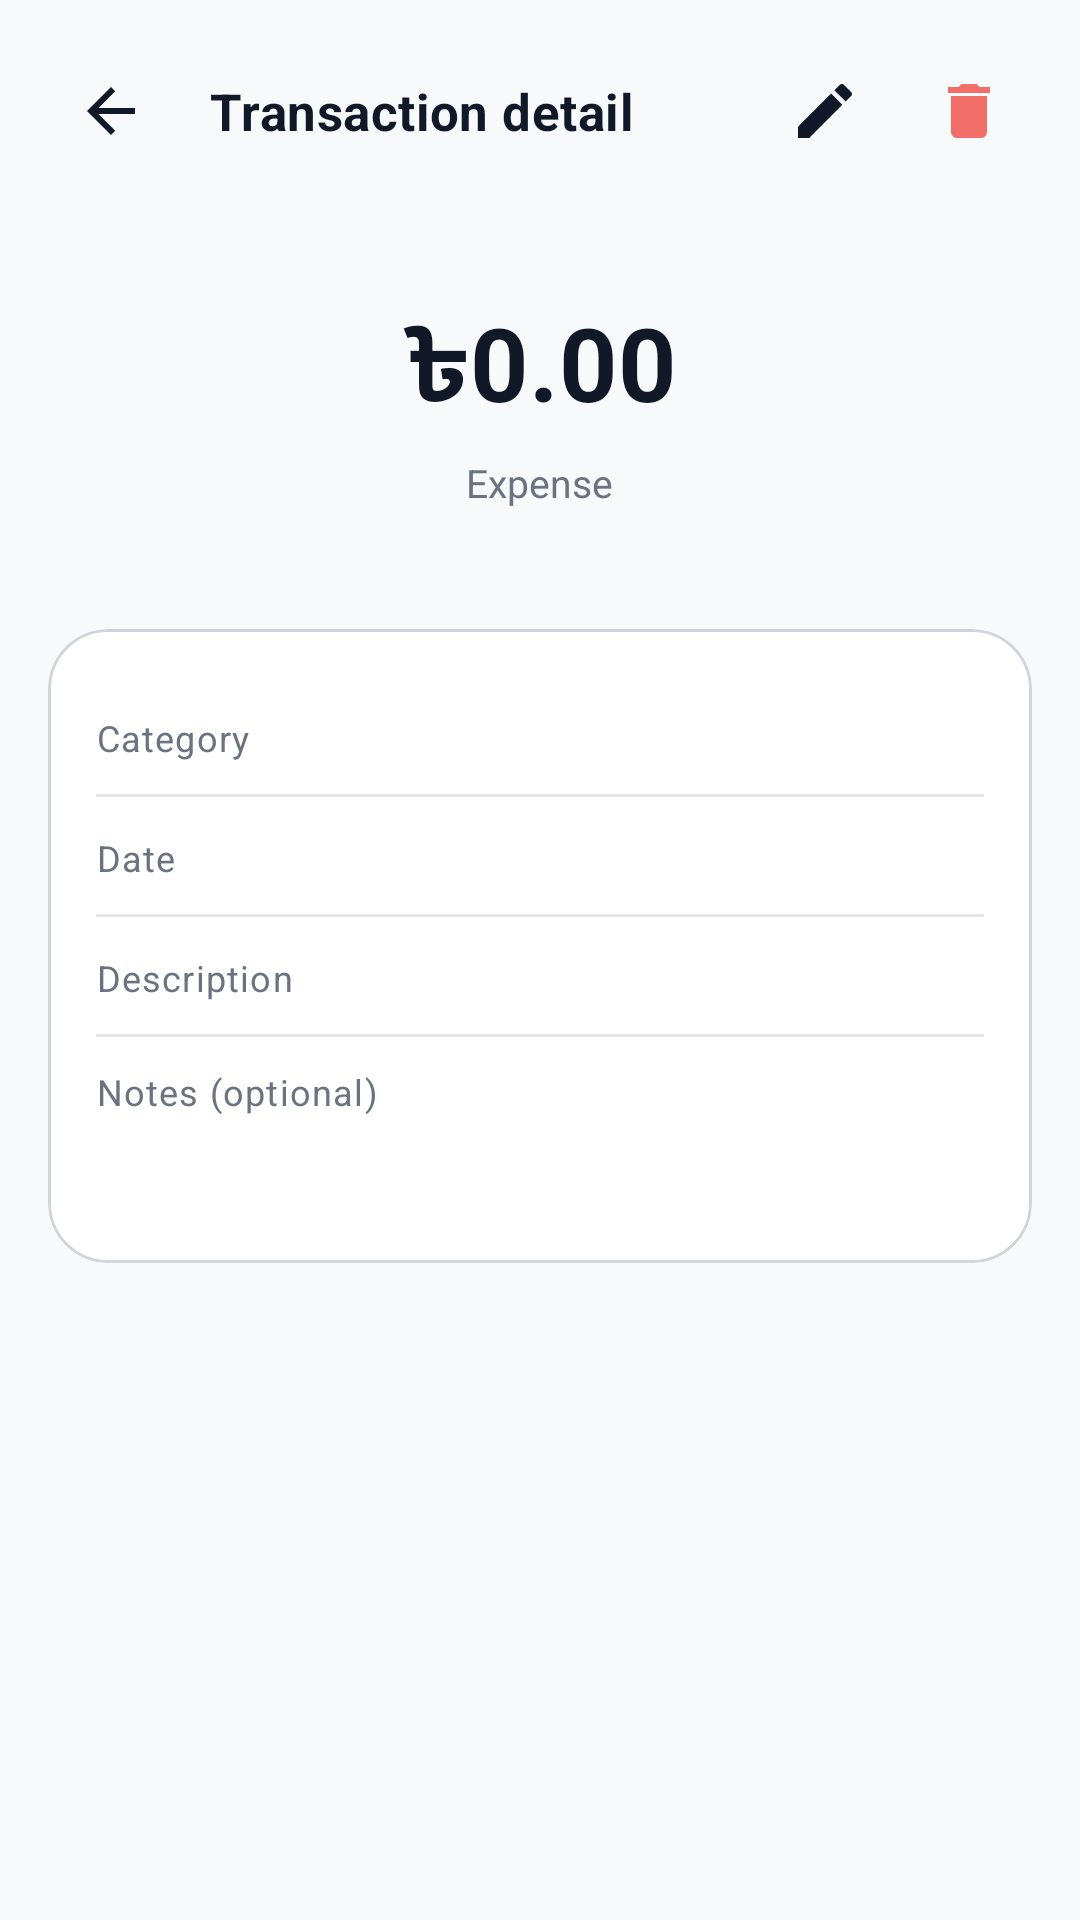

Icons on this 1080x1920 Android screen, each with its box as [x1,y1,x2,y2]:
Back: [87,87,135,135]
Delete: [948,84,990,138]
Edit: [798,84,852,138]
